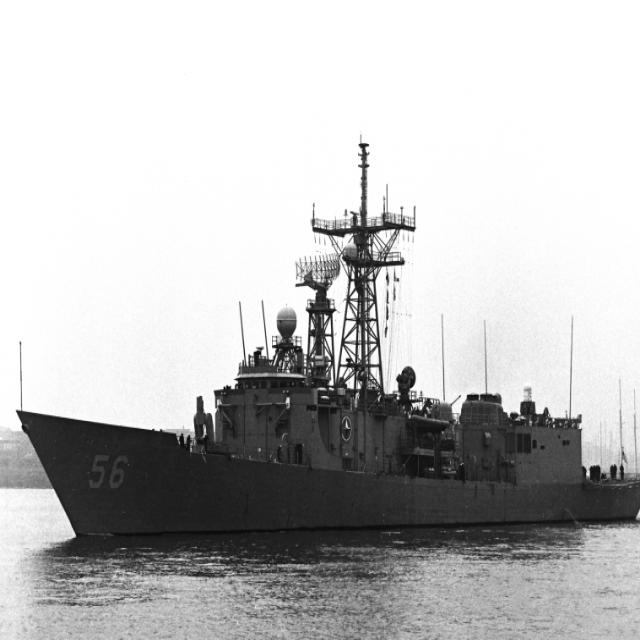Fragata: (14, 134, 640, 552)
